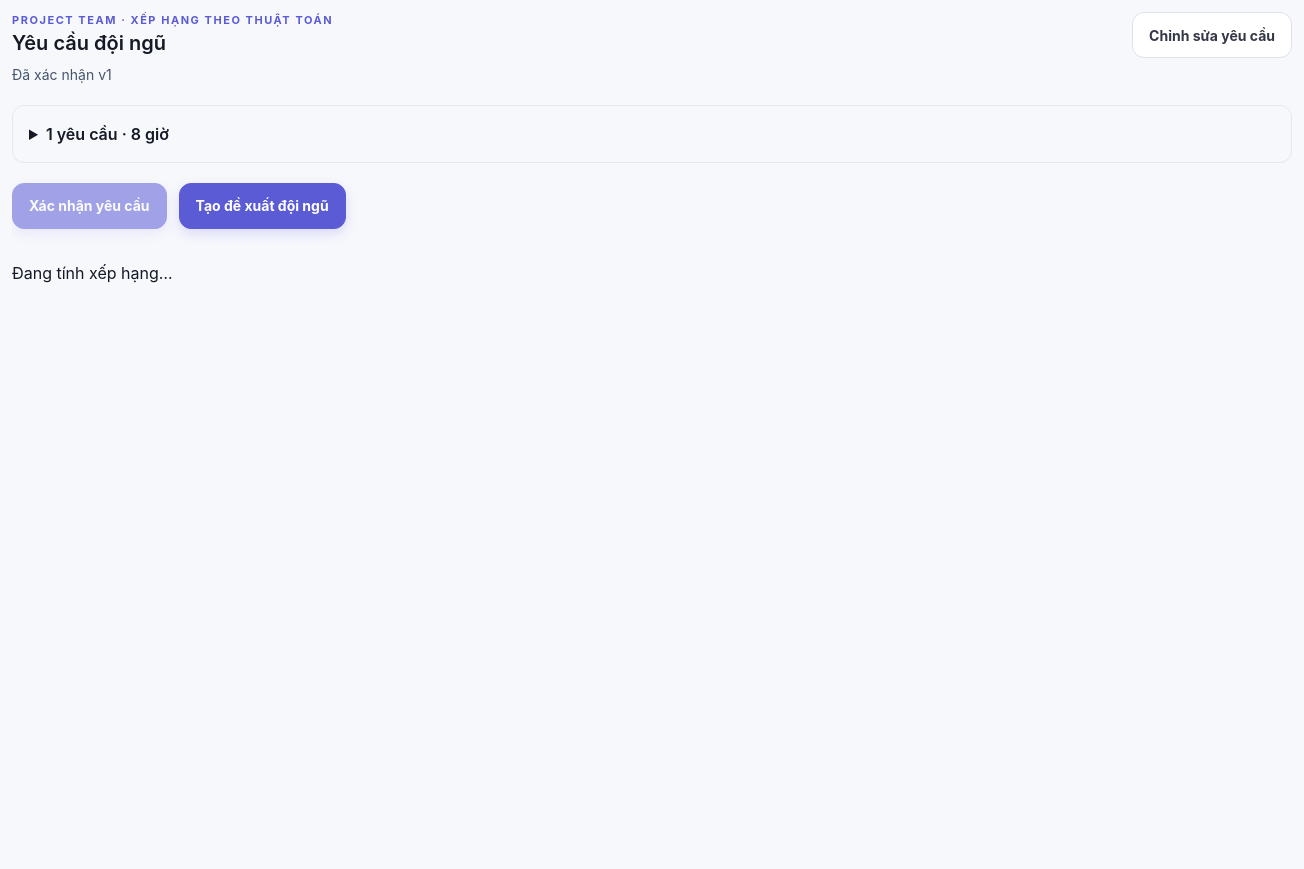
Test: TeamPanel › creates v2 on-card, requires an override reason and leaves v1 read-only
This screenshot has width=1304, height=869.
Click the button "Tạo đề xuất đội ngũ".
click(262, 206)  # box [179,182,346,228]
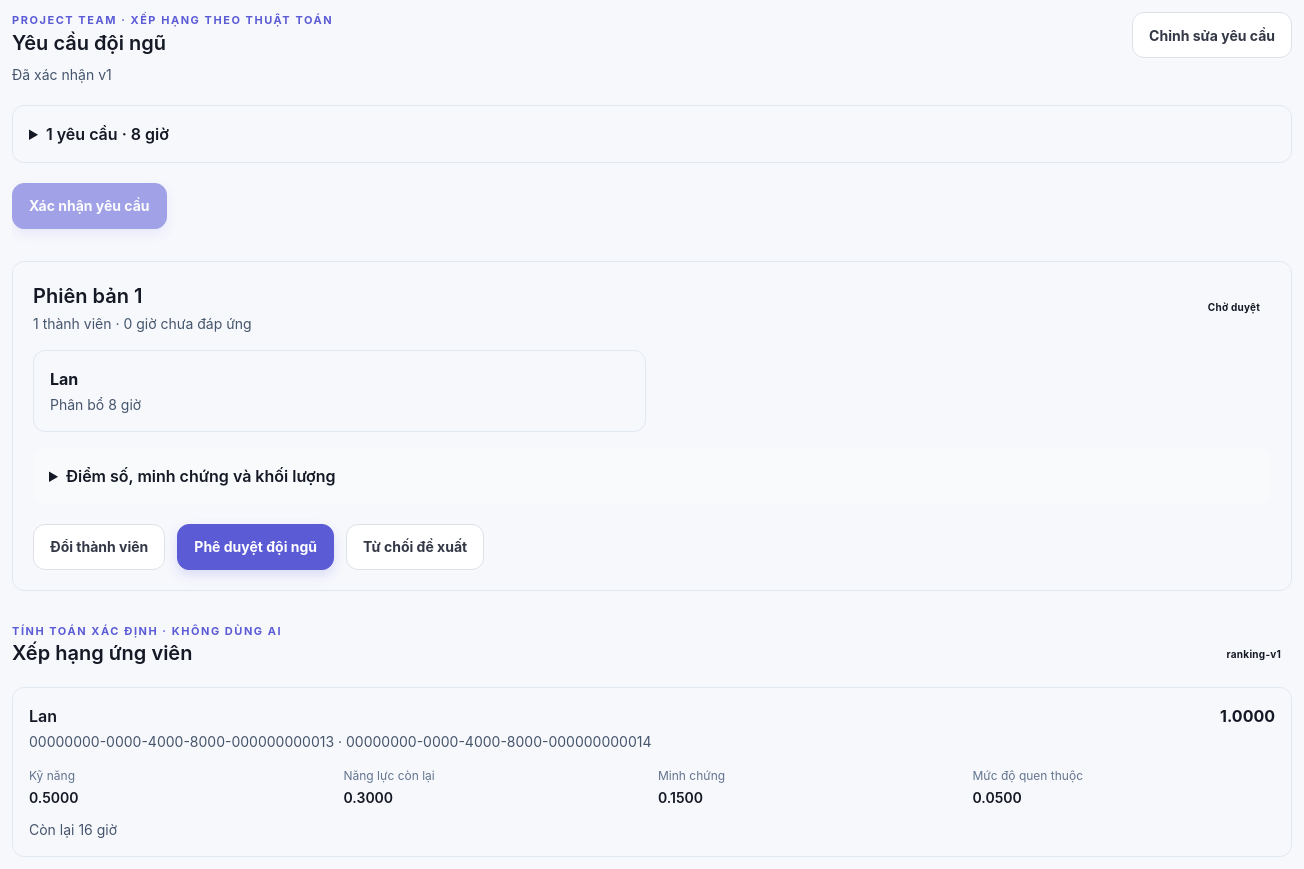
Click the button "Đổi thành viên".
click(99, 546)  # box [33,524,165,570]
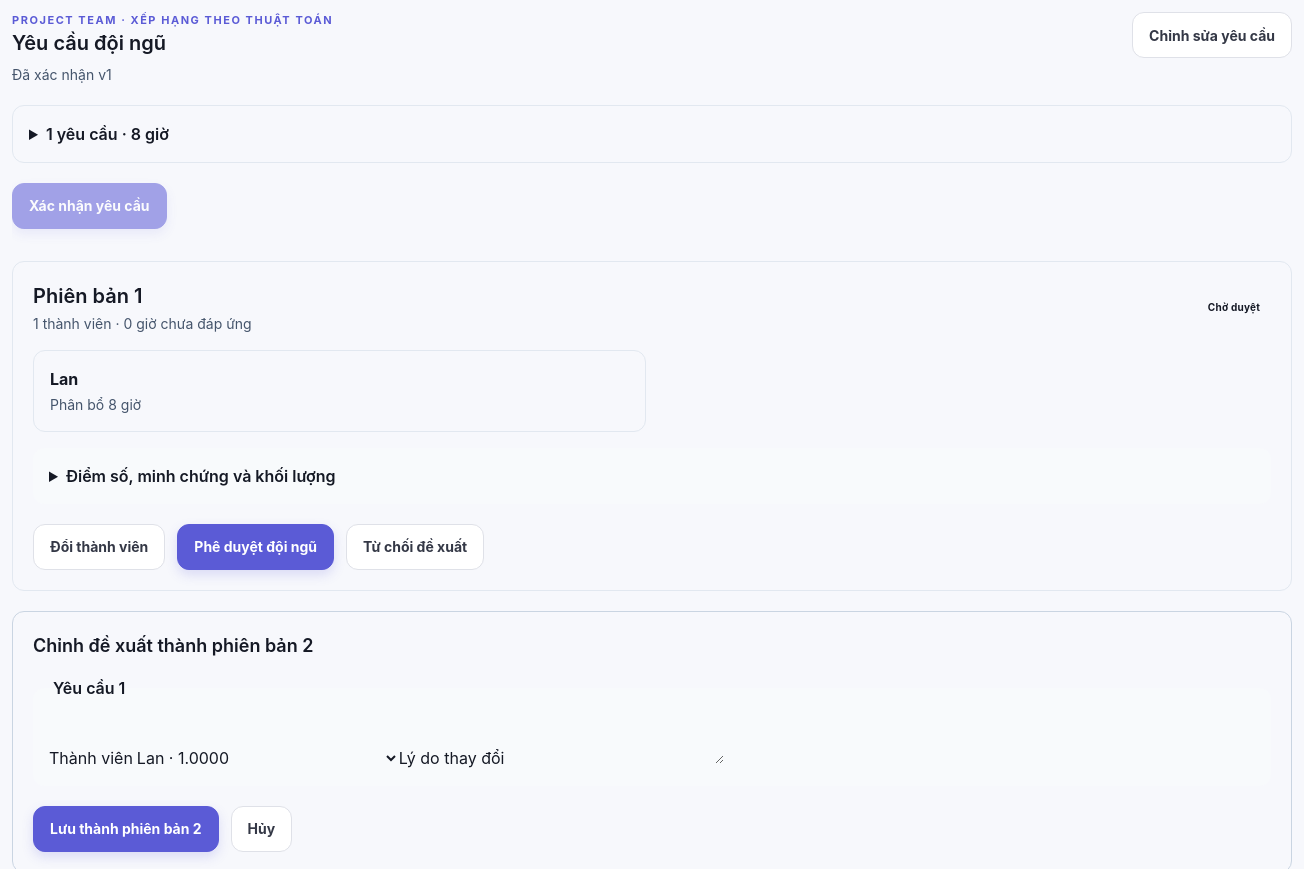
Select "Minh · 0.8500" in the dropdown labelled "Thành viên" at point(266, 758), box [133,747,399,769]
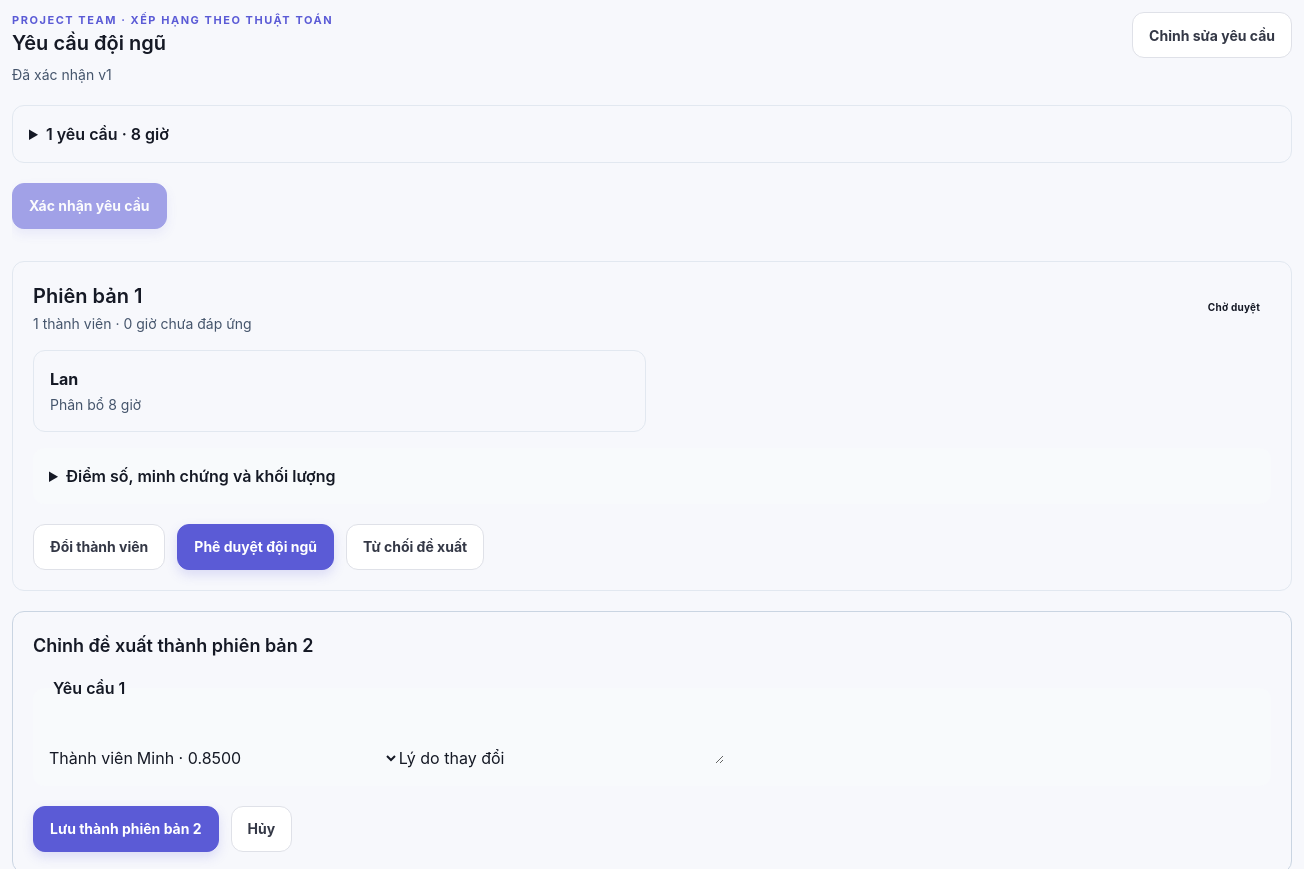
Click the button "Lưu thành phiên bản 2".
click(126, 829)  # box [33,806,219,852]
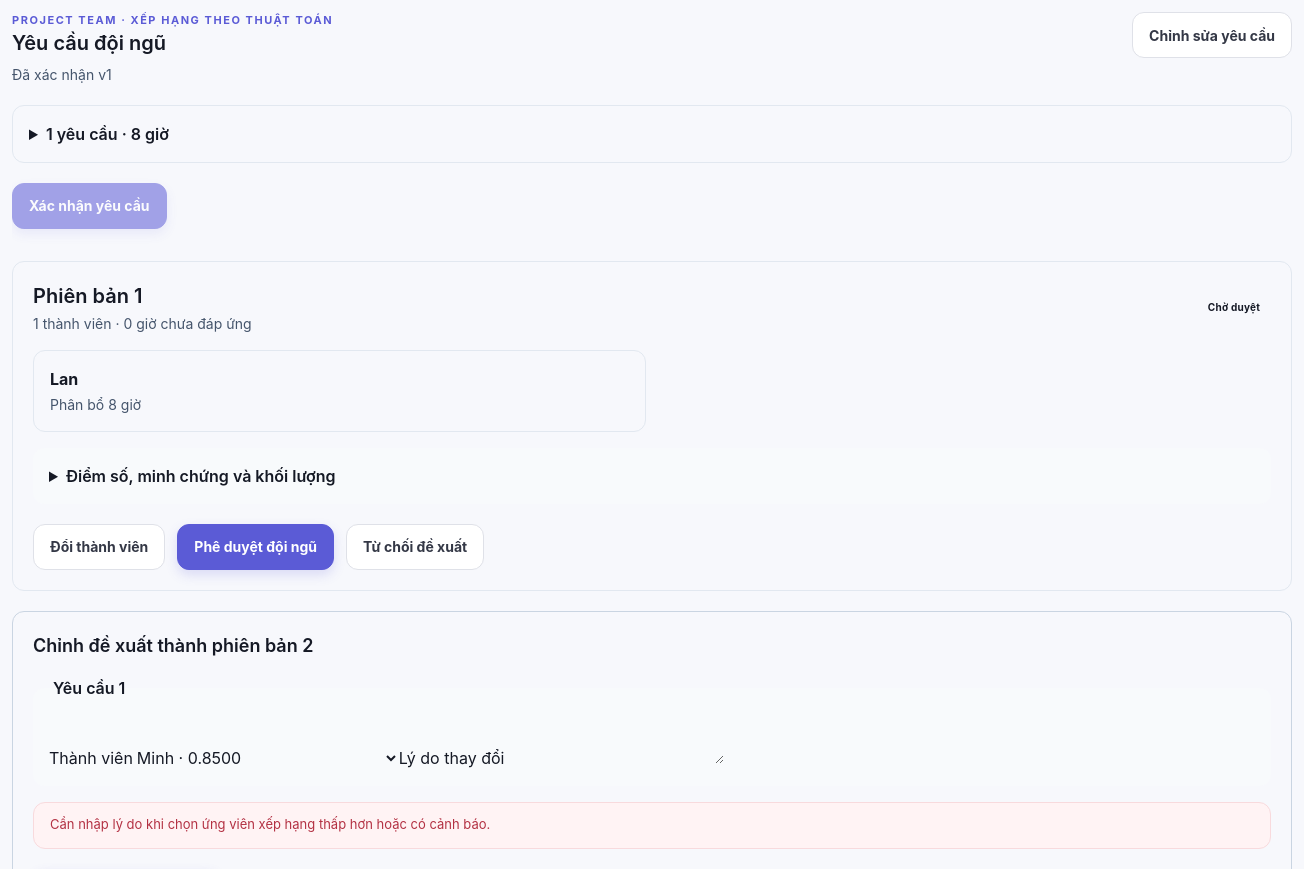
Expected: the text "Cần nhập lý do khi chọn ứng viên xếp hạng thấp hơn hoặc có cảnh báo." is shown, [33,802,1271,849]
Type "Phù hợp lịch tuần 2" into the text box labelled "Lý do thay đổi".
click(614, 740); type("Phù hợp lịch tuần 2")  # box [504,716,724,764]
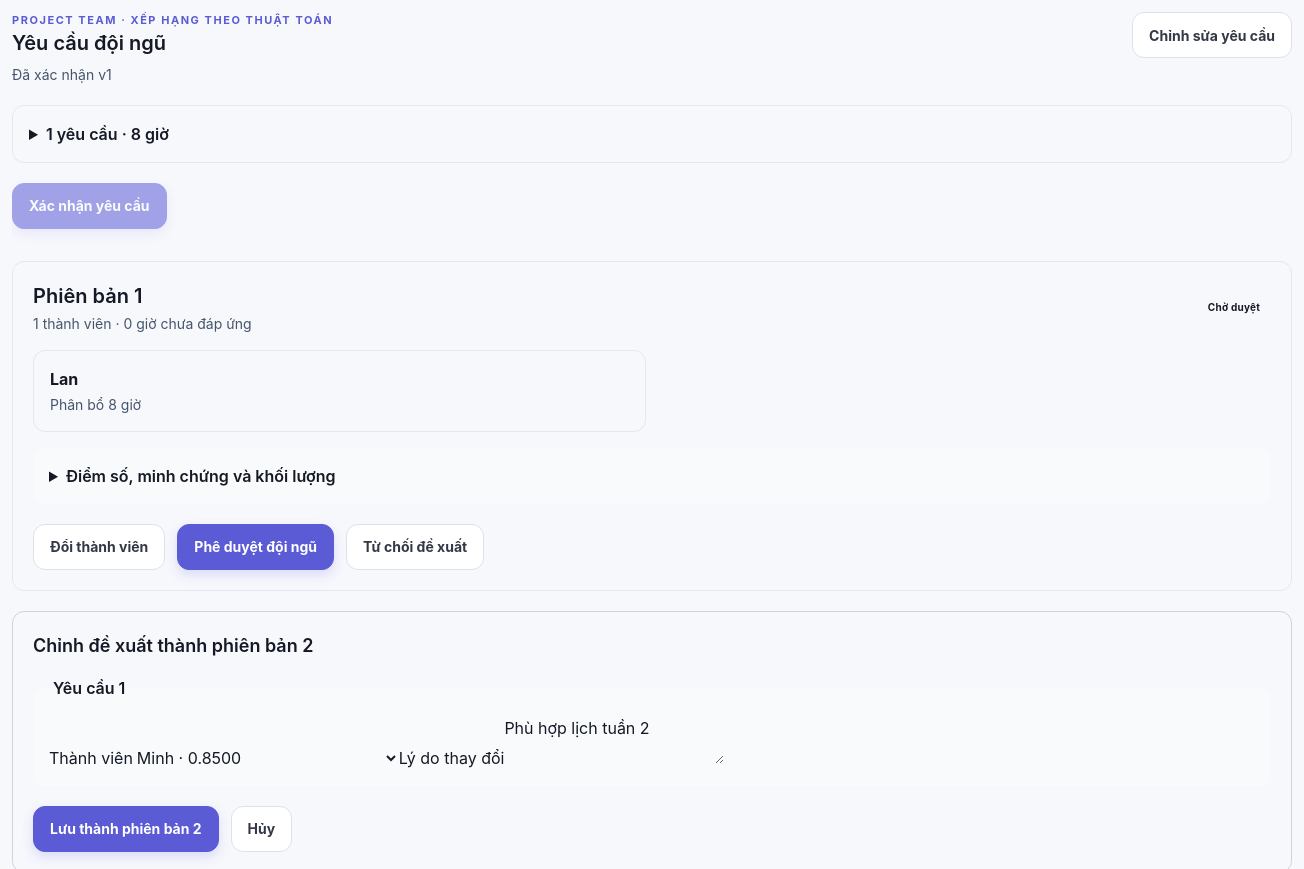
Click the button "Lưu thành phiên bản 2".
click(126, 829)  # box [33,806,219,852]
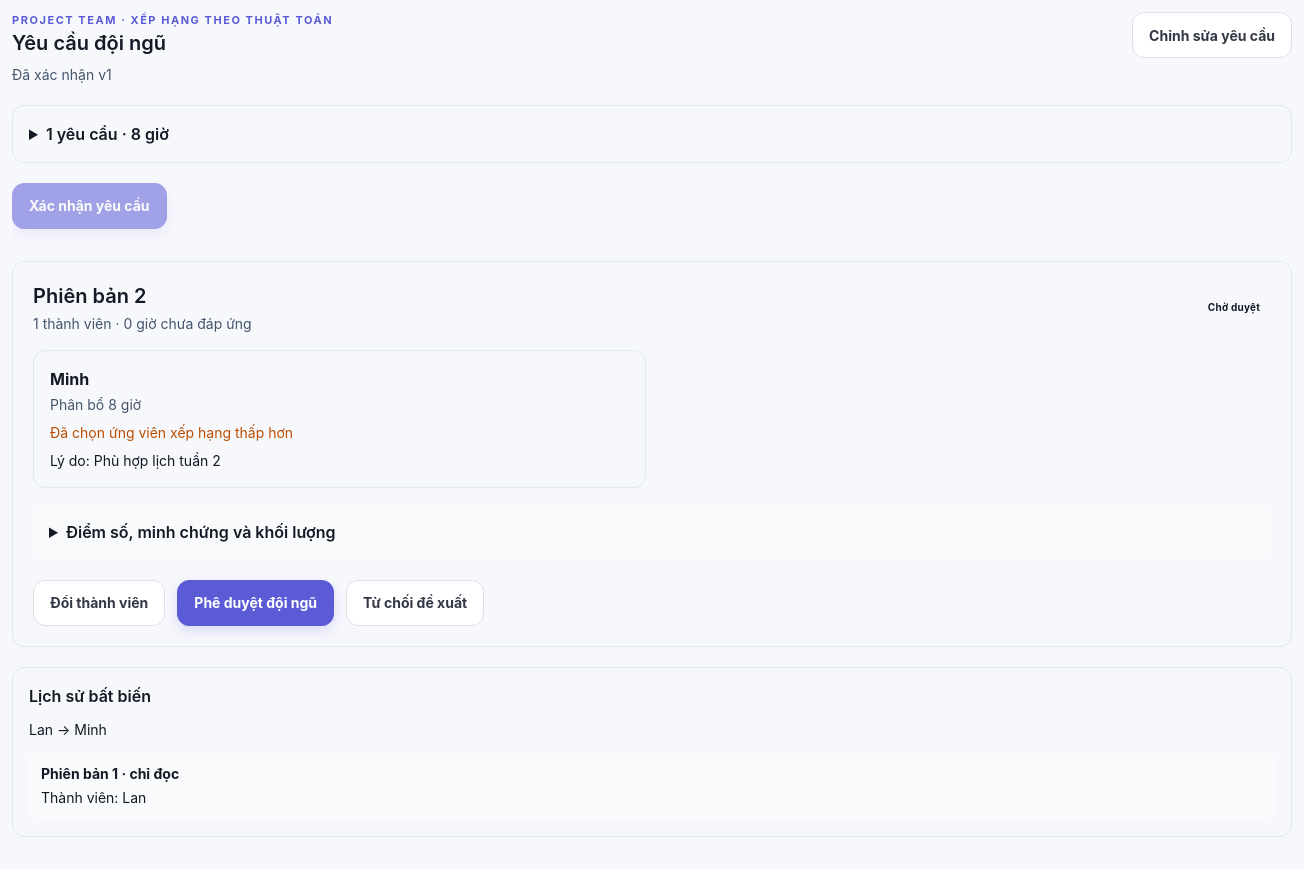
Expected: the heading "Phiên bản 2" is shown, [33,284,146,308]
Expected: the text "Lan → Minh" is shown, [29,721,107,738]
Expected: the text "Phiên bản 1 · chỉ đọc" is shown, [41,765,179,782]
